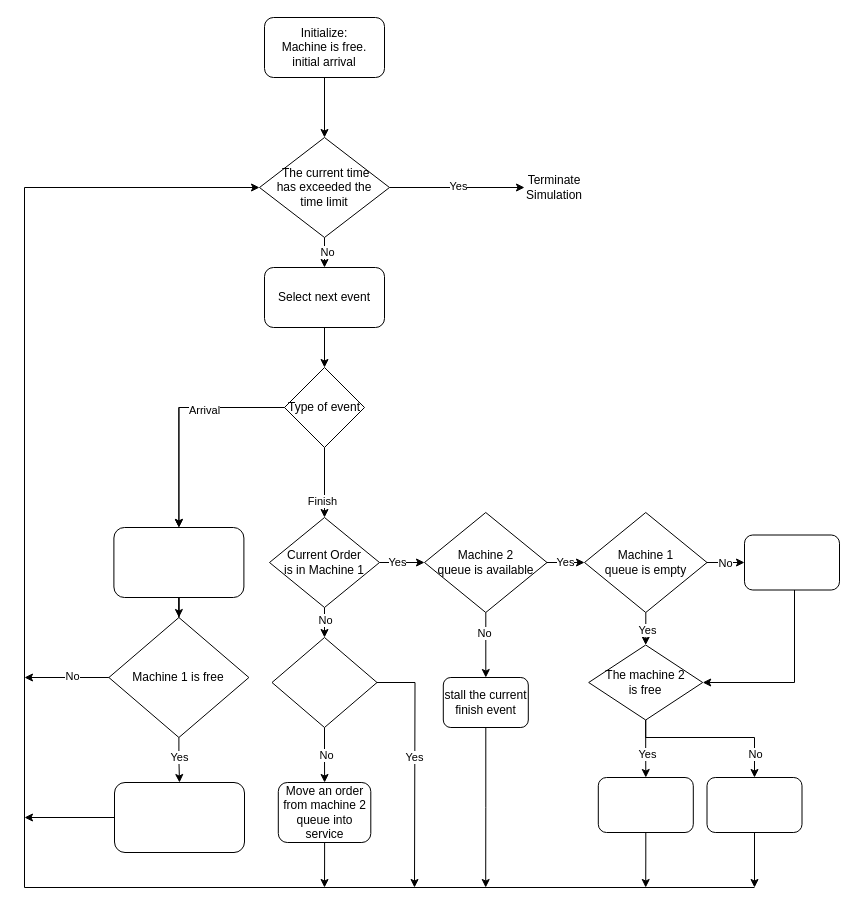
Some shapes in this 857 by 913 pixel diagram are drawn without their labels. The centre of each missing label's shape, as x and y in pixels:
"Add new order to waiting queue, and add new arrival event." belongs at pixel 178 562.
"Move an order from machine 1 queue into service" belongs at pixel 179 817.
"Move an order from Machine 1 queue to service" belongs at pixel 792 562.
"Put the current order to machine 2 queue" belongs at pixel 754 804.
"Put the current order to machine 2 service" belongs at pixel 645 804.
"The machine 2 queue empty" belongs at pixel 324 682.
